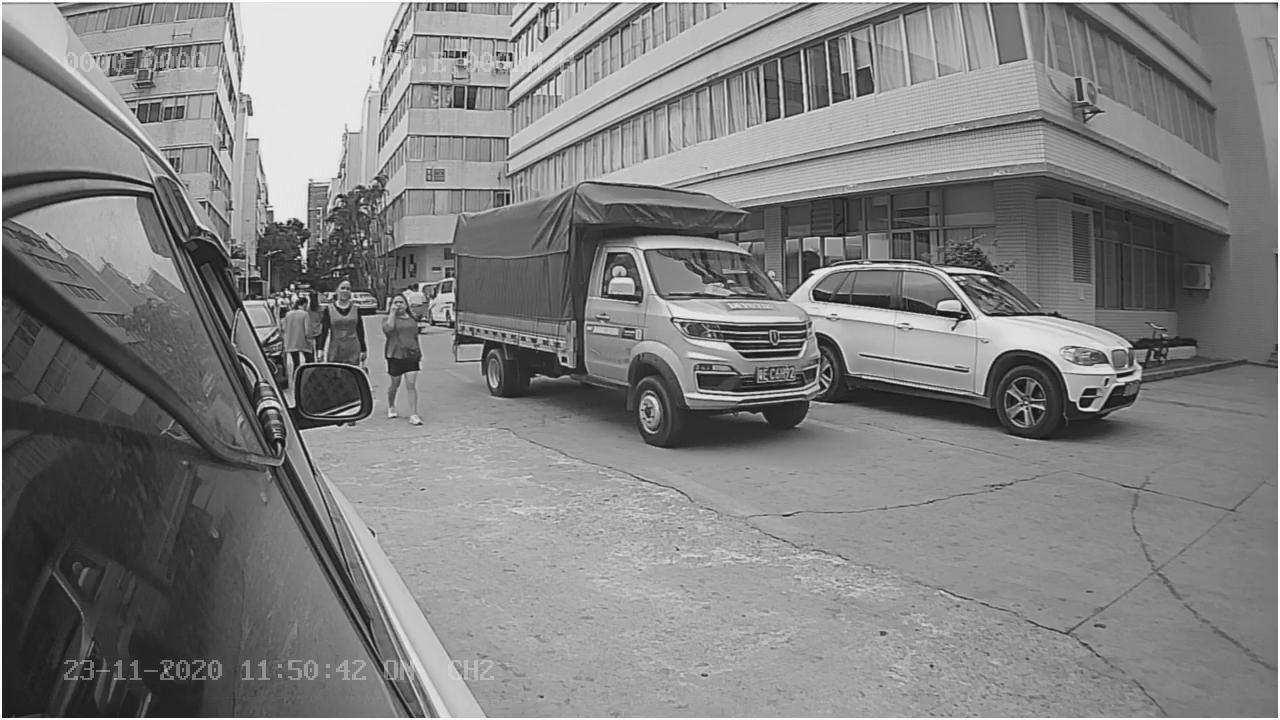person: (374, 293, 427, 430)
